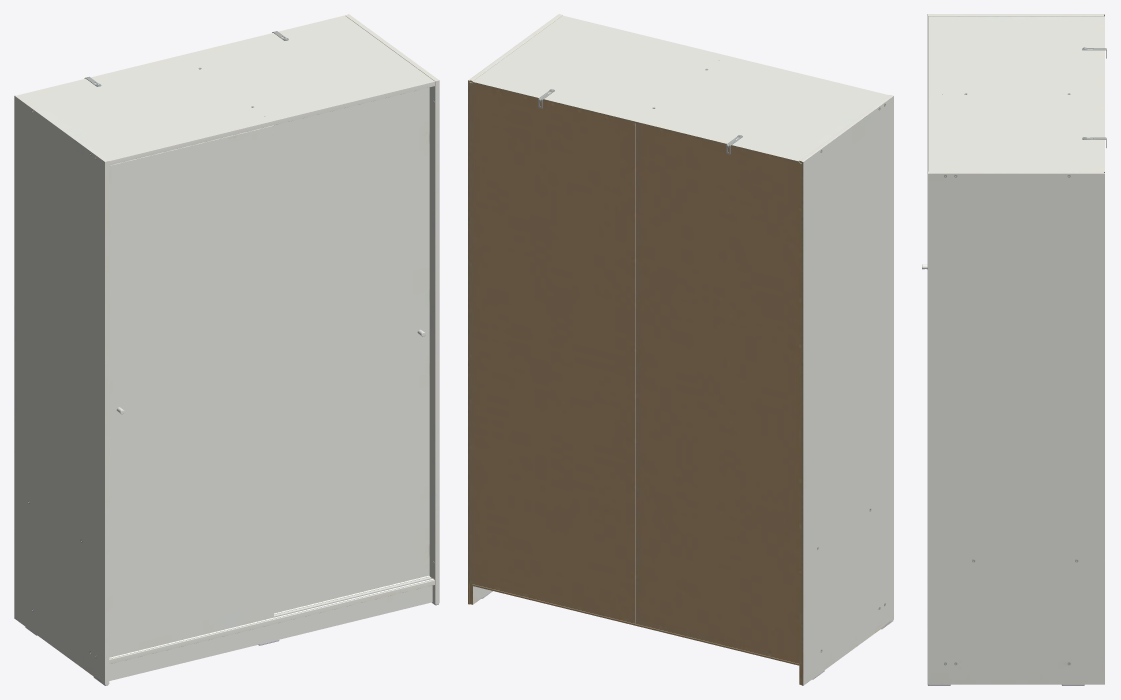
3 renders of one model, left to right at view 1: azimuth 30°, elevation 25°; view 2: azimuth 150°, elevation 25°; view 3: azimuth 270°, elevation 25°, orthographic. The views are drawn at different scales.
Visible parts, largest first — view 1: 90437238-KLEPPSTAD001; view 2: 90437238-KLEPPSTAD001; view 3: 90437238-KLEPPSTAD001.
Part boxes in pixels (x1,y1,x2,y2): 90437238-KLEPPSTAD001: (14,14,439,685); 90437238-KLEPPSTAD001: (468,14,893,685); 90437238-KLEPPSTAD001: (922,14,1106,685).
Bounding box in the file's own units: 1.17 × 1.76 × 0.5746.
1 material, 1 textured.
